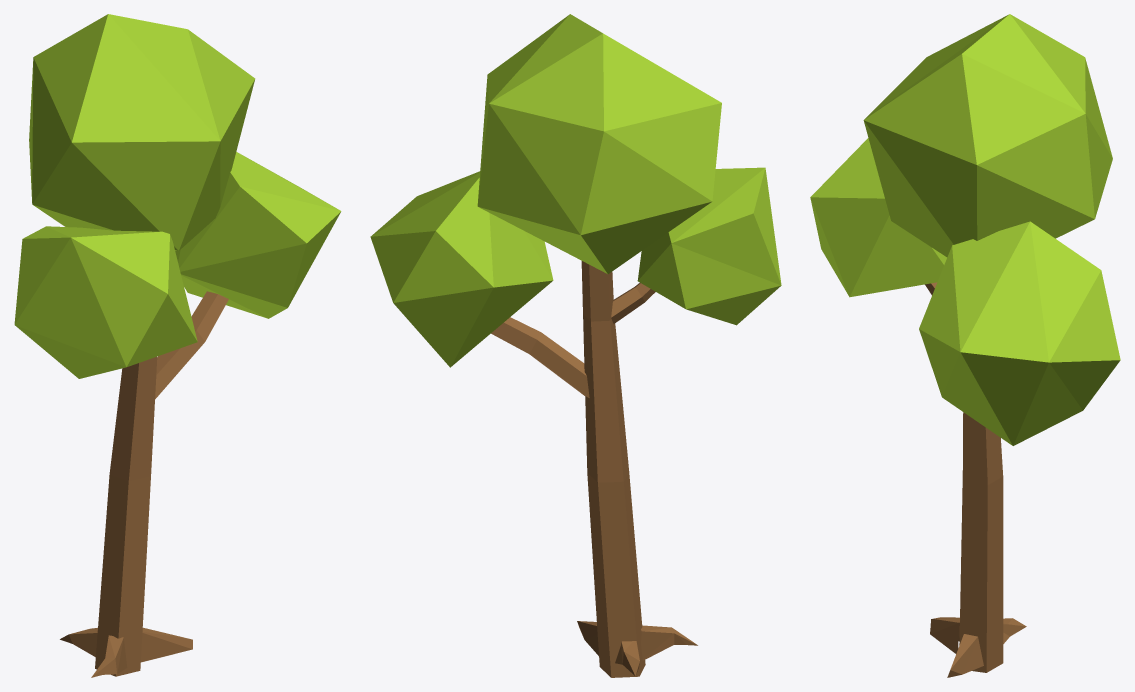
Rendered from tree03.fbx.
3 views of the same model, side by side, from view 1: azimuth 30°, elevation 25°; view 2: azimuth 150°, elevation 25°; view 3: azimuth 270°, elevation 25° (orthographic).
Visible parts, largest first — view 1: tree03; view 2: tree03; view 3: tree03.
Boxes of the visible parts, bbox=[...] form: tree03: bbox=[14, 14, 341, 677]; tree03: bbox=[370, 14, 781, 677]; tree03: bbox=[810, 14, 1120, 677].
Bounding box in the file's own units: 212 × 374 × 161.
